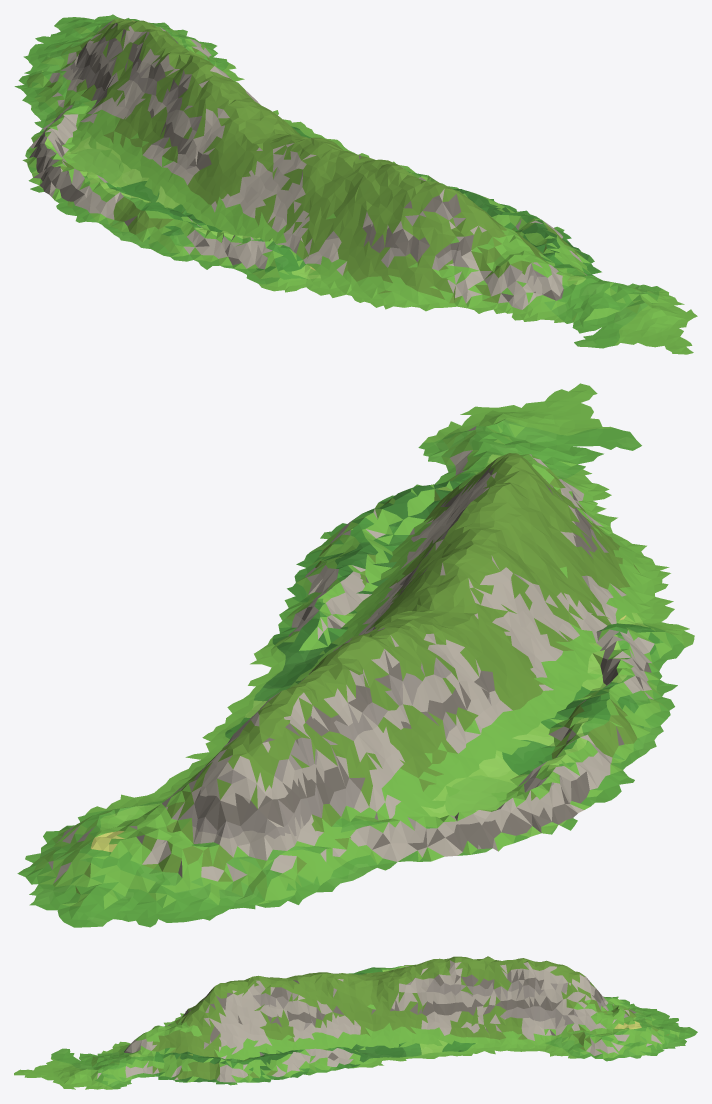
Rendered from Isl-long4-Relief.fbx.
3 renders of one model, top to bottom at view 1: azimuth 30°, elevation 25°; view 2: azimuth 150°, elevation 25°; view 3: azimuth 270°, elevation 25°, orthographic. The views are drawn at different scales.
Visible parts, largest first — view 1: Isl-long4-Relief-c12, Isl-long4-Relief-c21, Isl-long4-Relief-c11, Isl-long4-Relief-c22; view 2: Isl-long4-Relief-c12, Isl-long4-Relief-c21, Isl-long4-Relief-c11, Isl-long4-Relief-c22; view 3: Isl-long4-Relief-c21, Isl-long4-Relief-c22, Isl-long4-Relief-c12.
Part boxes in pixels (bbox=[...]): Isl-long4-Relief-c12: bbox=[14, 18, 274, 237]; Isl-long4-Relief-c21: bbox=[276, 134, 697, 348]; Isl-long4-Relief-c11: bbox=[119, 134, 419, 309]; Isl-long4-Relief-c22: bbox=[50, 14, 406, 167]; Isl-long4-Relief-c12: bbox=[136, 610, 649, 927]; Isl-long4-Relief-c21: bbox=[254, 400, 646, 661]; Isl-long4-Relief-c11: bbox=[435, 531, 694, 749]; Isl-long4-Relief-c22: bbox=[17, 609, 434, 927]; Isl-long4-Relief-c21: bbox=[34, 972, 373, 1089]; Isl-long4-Relief-c22: bbox=[370, 961, 697, 1067]; Isl-long4-Relief-c12: bbox=[370, 956, 678, 1022].
Size of the model in its own units: 52.49 by 12.6 by 122.
